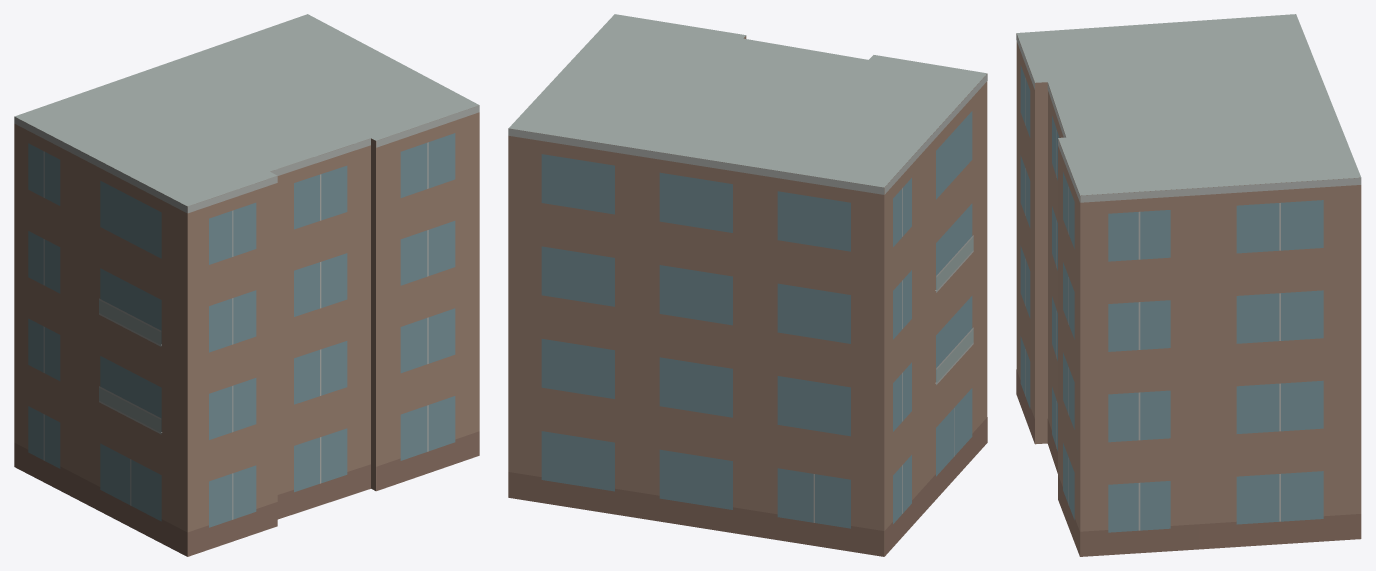
Rendered from survey-upis-32918265.glb.
3 renders of one model, left to right at view 1: azimuth 30°, elevation 25°; view 2: azimuth 150°, elevation 25°; view 3: azimuth 270°, elevation 25°, orthographic. The views are drawn at different scales.
Parts seen in each view (by area): view 1: survey-upis-32918265.tmp; view 2: survey-upis-32918265.tmp; view 3: survey-upis-32918265.tmp.
Boxes of the visible parts, x1=… form: survey-upis-32918265.tmp: x1=14, y1=14, x2=479, y2=556; survey-upis-32918265.tmp: x1=508, y1=14, x2=987, y2=556; survey-upis-32918265.tmp: x1=1016, y1=14, x2=1361, y2=556.
Bounding box in the file's own units: 13.15 × 12.2 × 10.56.
